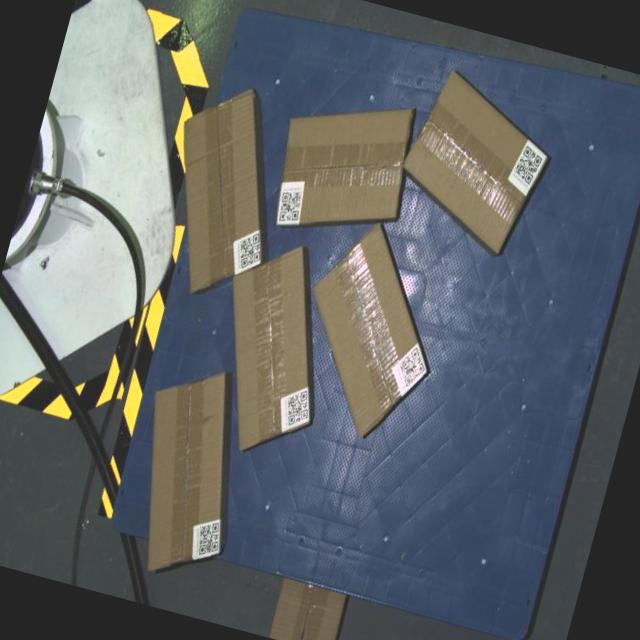box: (278, 209, 461, 452), (140, 73, 304, 310), (189, 231, 353, 467), (109, 356, 264, 588), (386, 63, 564, 260), (262, 80, 423, 253)
